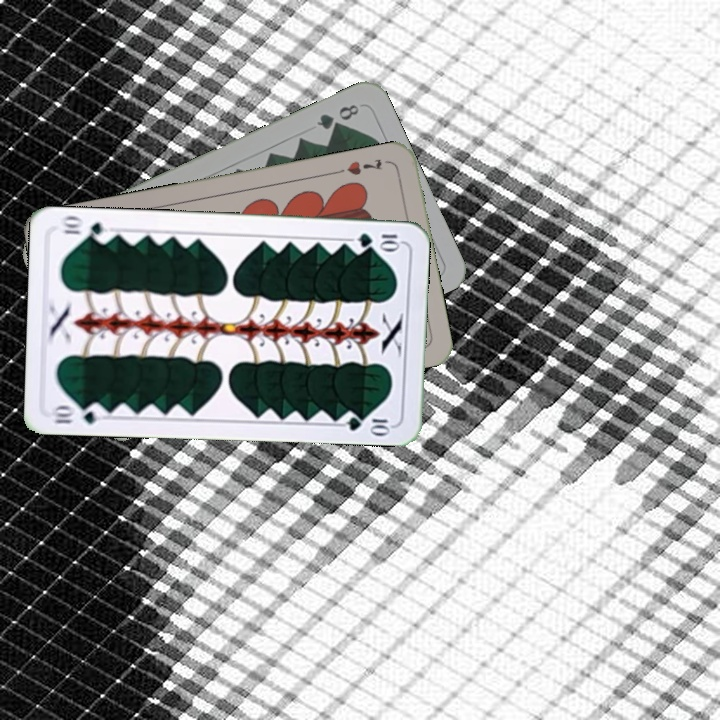G10: (48, 400, 108, 427), (353, 229, 403, 251)
G8: (312, 100, 362, 132)
H7: (332, 154, 385, 178)
